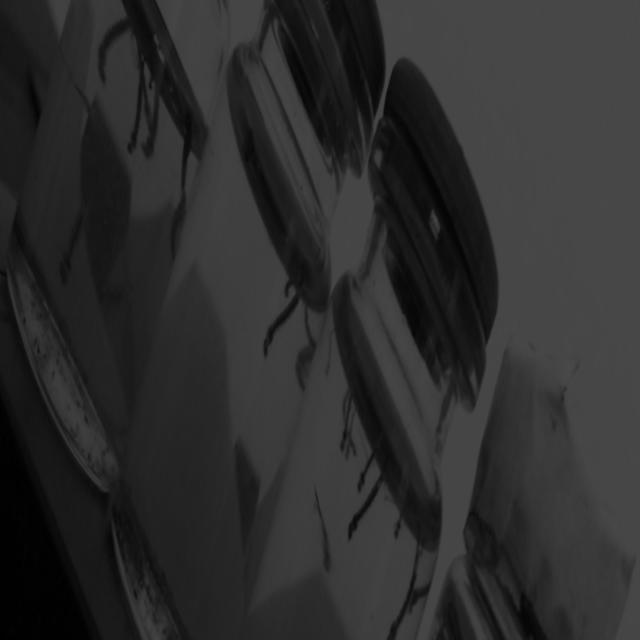larvas: (341, 457, 393, 544), (257, 277, 308, 360), (384, 542, 426, 640), (91, 10, 131, 86), (58, 203, 87, 283), (141, 72, 167, 160), (126, 56, 148, 156), (352, 439, 384, 494), (314, 487, 333, 571), (168, 198, 184, 258), (296, 344, 318, 383), (181, 118, 192, 191), (339, 397, 353, 454), (344, 406, 357, 458), (393, 501, 411, 536), (303, 305, 317, 347), (411, 577, 430, 607), (325, 329, 336, 376), (351, 438, 360, 458)
